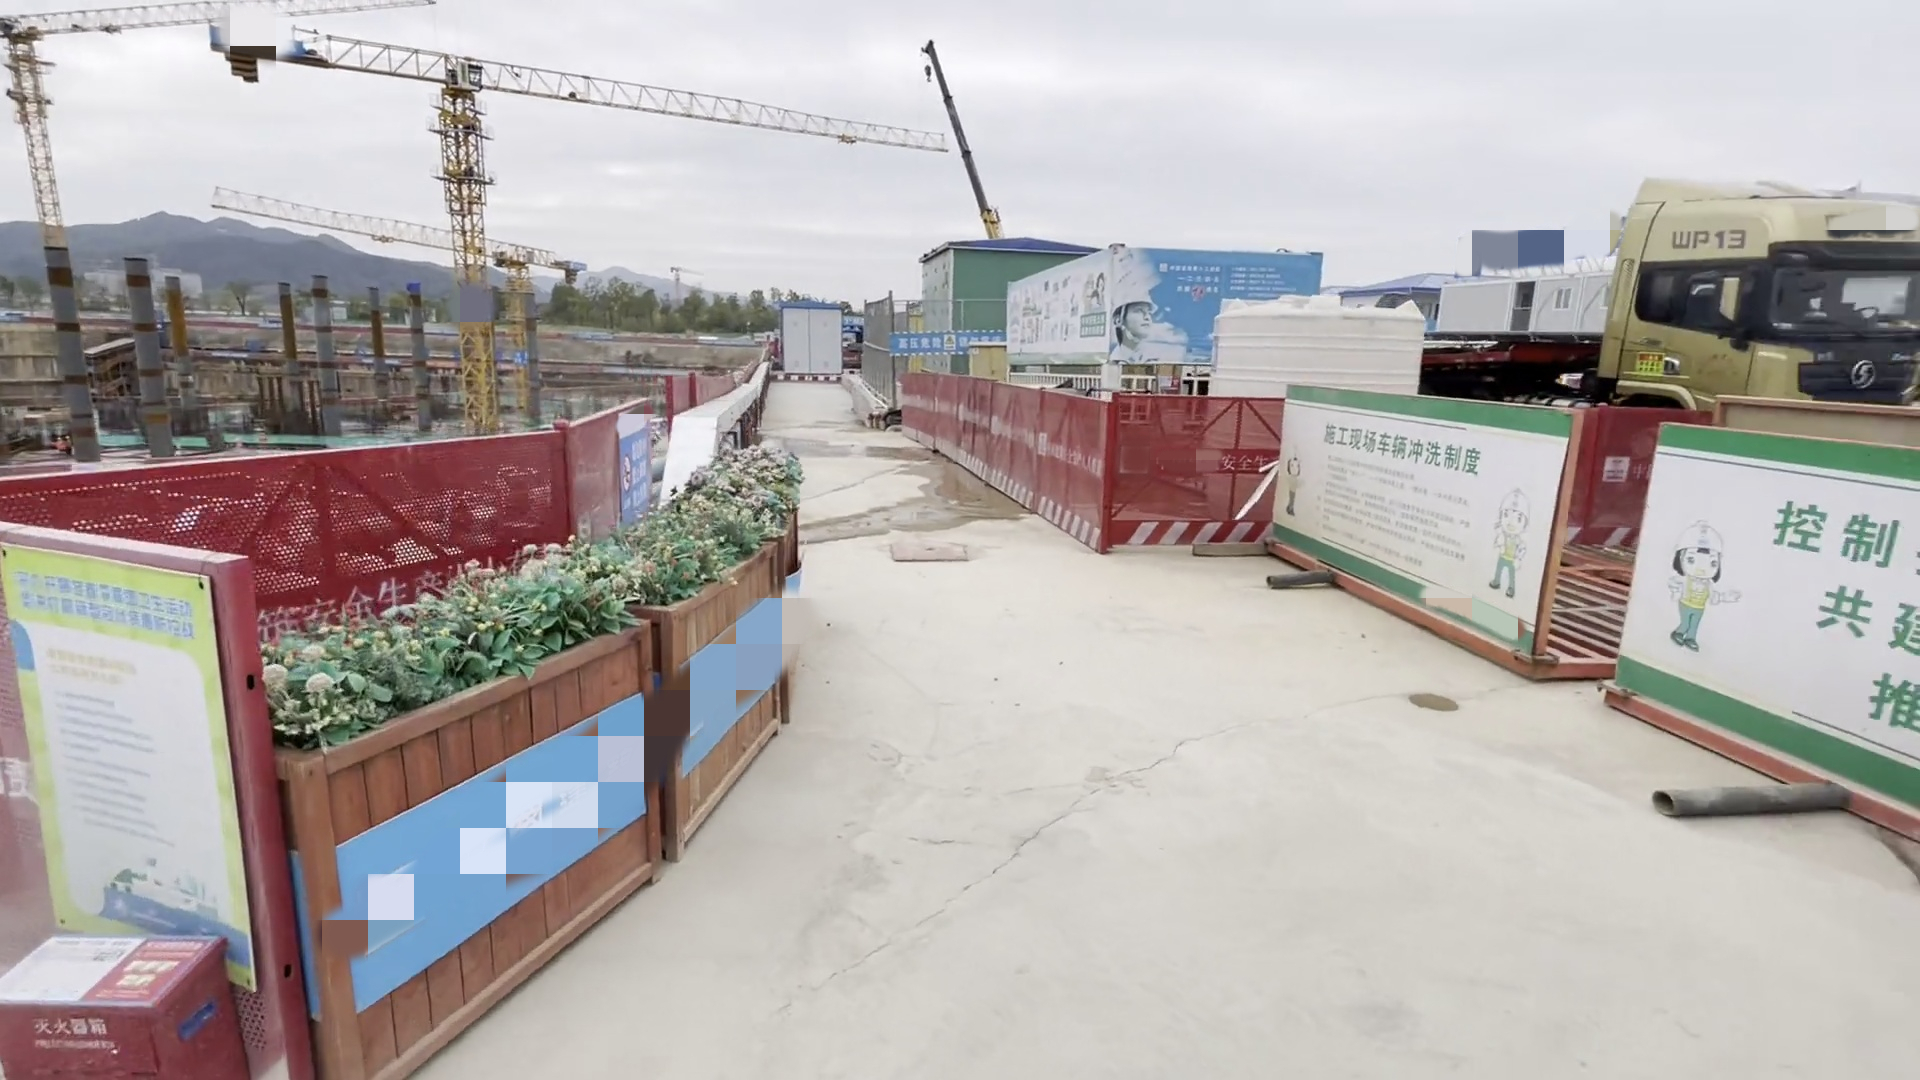fence: (149, 443, 564, 578), (906, 375, 1106, 542), (1098, 380, 1262, 542)
slogan: (895, 334, 967, 353)
